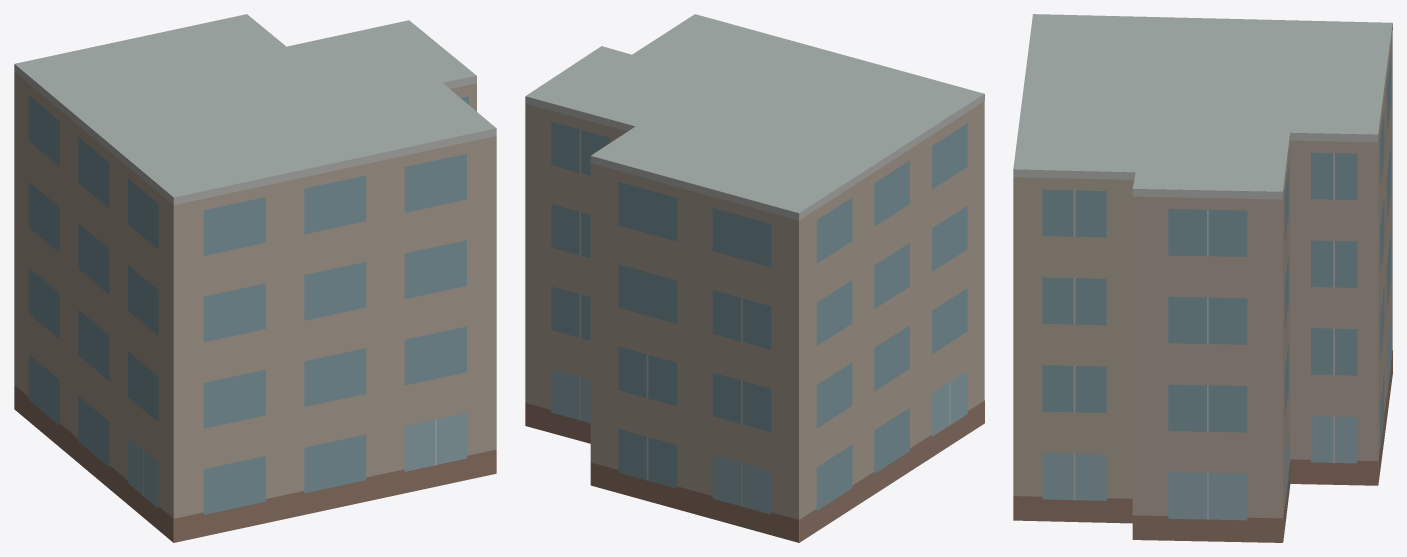
The model's file is survey-upis-32835330.glb.
3 renders of one model, left to right at view 1: azimuth 30°, elevation 25°; view 2: azimuth 150°, elevation 25°; view 3: azimuth 270°, elevation 25°, orthographic. The views are drawn at different scales.
Visible parts, largest first — view 1: survey-upis-32835330.tmp; view 2: survey-upis-32835330.tmp; view 3: survey-upis-32835330.tmp.
Part boxes in pixels (x1=…): survey-upis-32835330.tmp: x1=14, y1=14, x2=496, y2=542; survey-upis-32835330.tmp: x1=525, y1=14, x2=984, y2=542; survey-upis-32835330.tmp: x1=1013, y1=14, x2=1392, y2=542.
Size of the model in its own units: 11.96 by 11 by 10.79.
